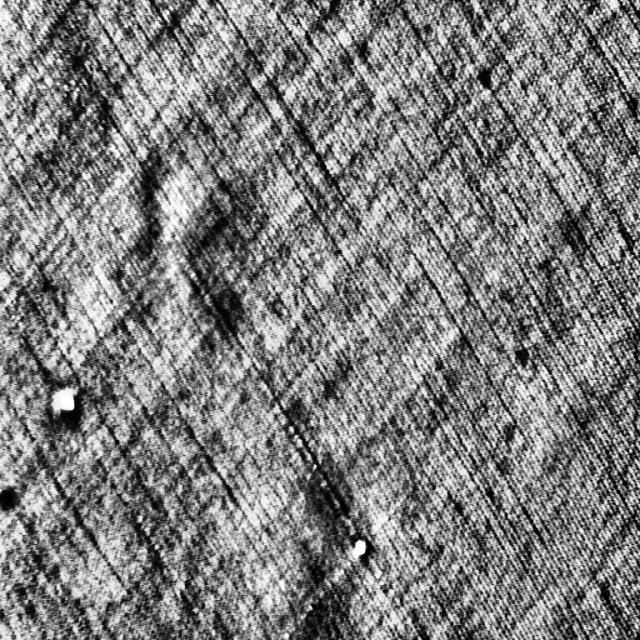Hole: (52, 382, 82, 426), (349, 528, 373, 564)
